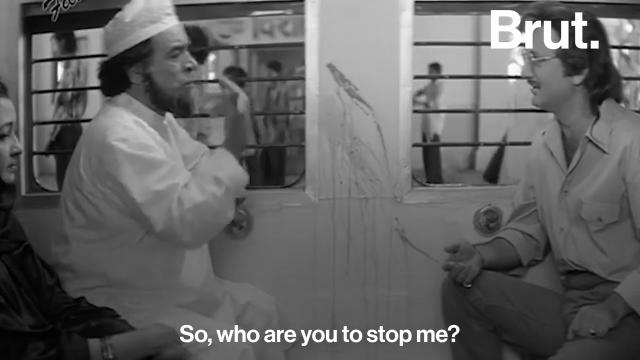spit: (314, 60, 402, 228)
